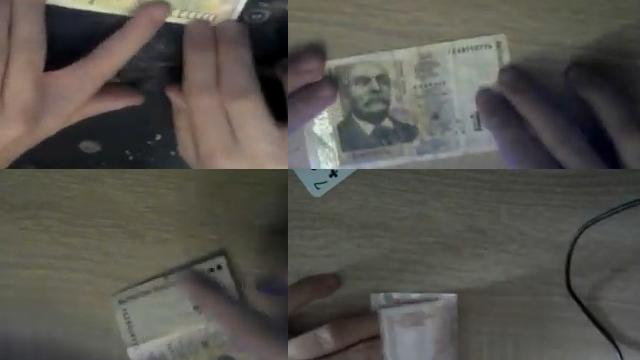10leva: (303, 32, 509, 169), (111, 252, 259, 360)
5leva: (370, 291, 460, 360)
